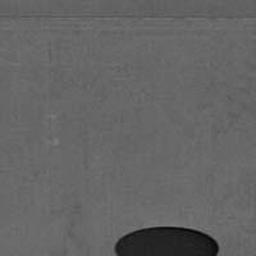Punching: (113, 225, 221, 256)
